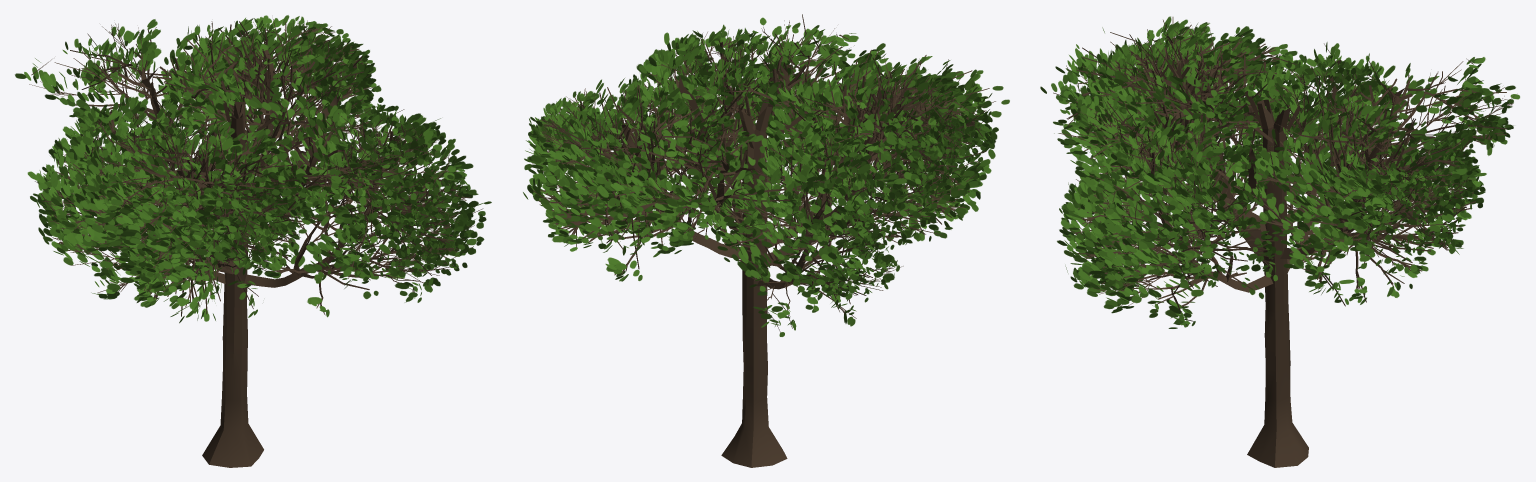
3 renders of one model, left to right at view 1: azimuth 30°, elevation 25°; view 2: azimuth 150°, elevation 25°; view 3: azimuth 270°, elevation 25°, orthographic.
Parts seen in each view (by area): view 1: oak 01.001_trunk_Mat.001_0.128; view 2: oak 01.001_trunk_Mat.001_0.128; view 3: oak 01.001_trunk_Mat.001_0.128.
Part boxes in pixels (bbox=[...]): oak 01.001_trunk_Mat.001_0.128: bbox=[15, 15, 491, 467]; oak 01.001_trunk_Mat.001_0.128: bbox=[523, 14, 1009, 467]; oak 01.001_trunk_Mat.001_0.128: bbox=[1040, 16, 1519, 467].
Bounding box in the file's own units: 5.02 × 4.52 × 5.36.
Materials: 2 (1 with a texture image).
